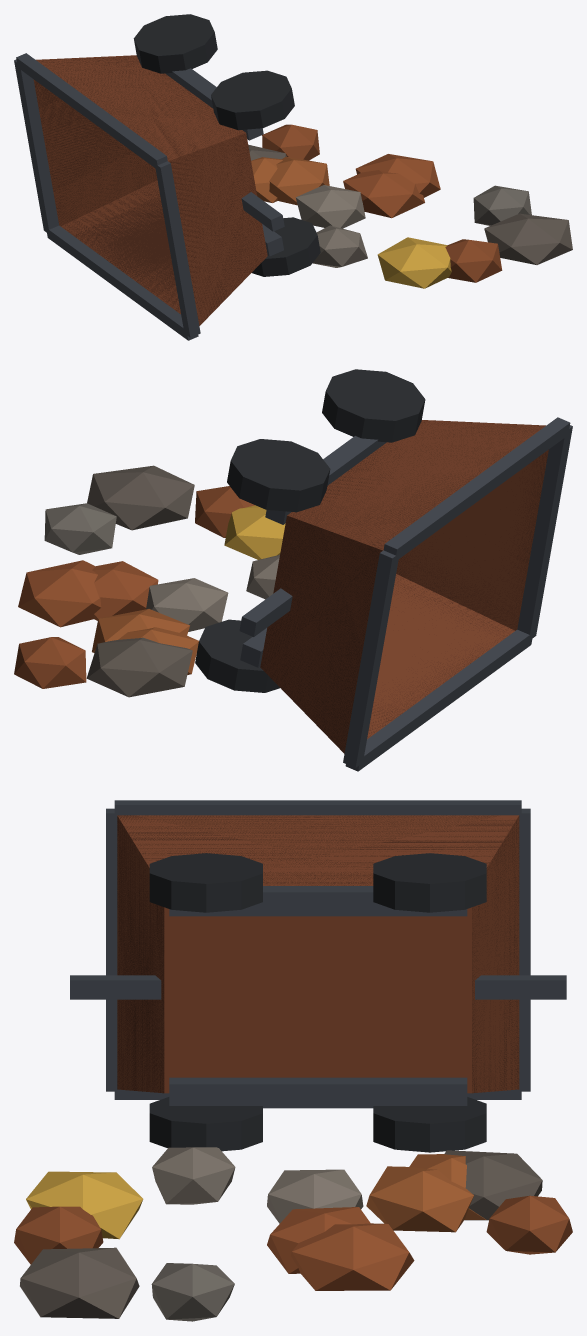
The model's file is mine-cart-tipped.glb.
The picture shows the model from 3 angles, top to bottom: view 1: azimuth 30°, elevation 25°; view 2: azimuth 150°, elevation 25°; view 3: azimuth 270°, elevation 25°; orthographic projection. The views are drawn at different scales.
Visible parts, largest first — view 1: mine-cart-tipped; view 2: mine-cart-tipped; view 3: mine-cart-tipped.
Part boxes in pixels (x1=…): mine-cart-tipped: x1=14, y1=14, x2=572, y2=340; mine-cart-tipped: x1=14, y1=369, x2=572, y2=771; mine-cart-tipped: x1=14, y1=800, x2=572, y2=1321.
Size of the model in its own units: 2.69 by 1.35 by 2.25.
